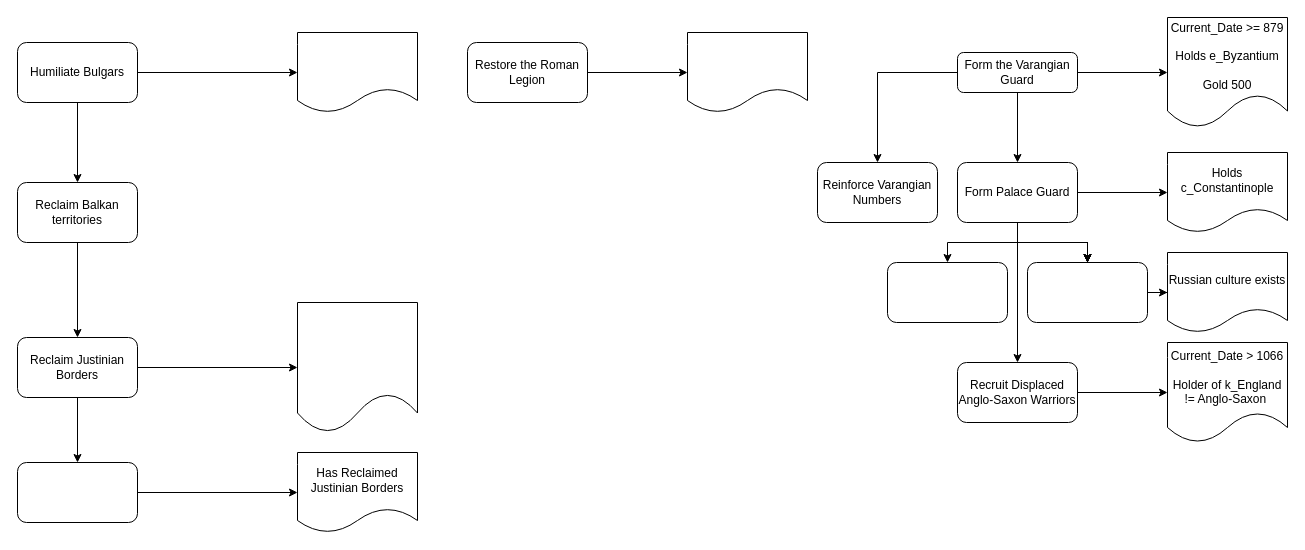
The diagram is 1305 pixels wide and 550 high, and some of its shapes have lost their labels. The shapes that lost their labels are listed below. From the top down, each one's centre as x and y in pixels, then its label:
At pixel 357 72: "Current_Date < 1066".
At pixel 747 72: "Culture has Legionnaires innovation".
At pixel 947 292: "Restore the Praetorian Guard".
At pixel 1087 292: "Recruit Rus' Warriors".
At pixel 357 367: "Current_Date >= 967 Holds e_Byzantium & c_Constantinople Gold 1500".
At pixel 77 492: "Restore Roman Empire".
